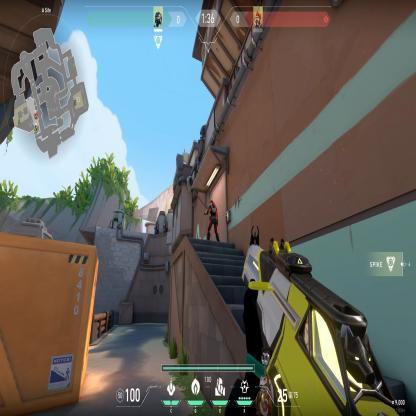enemy: (203, 197, 221, 244)
